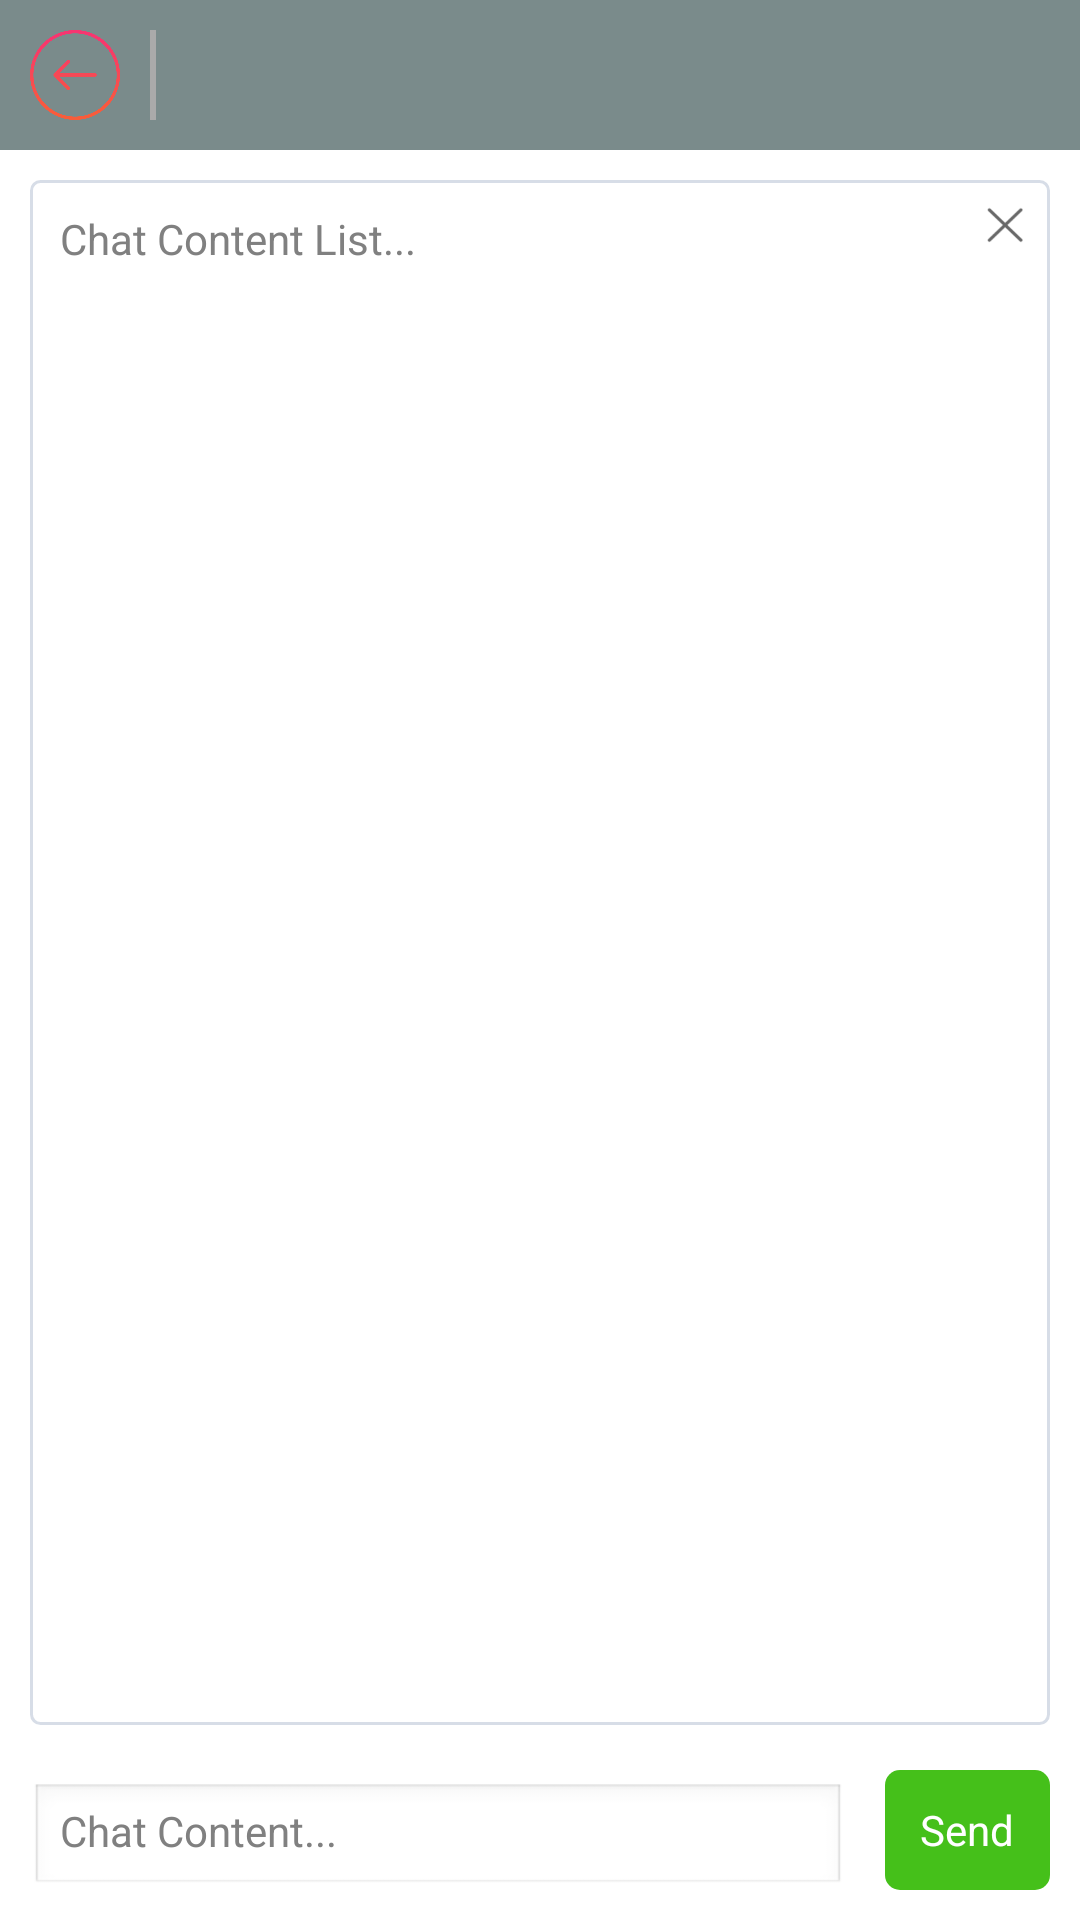

Named icons in this screenshot (1080 x 1920) and their centers, [x,y]:
clear: [1005,225]
return: [75,75]
